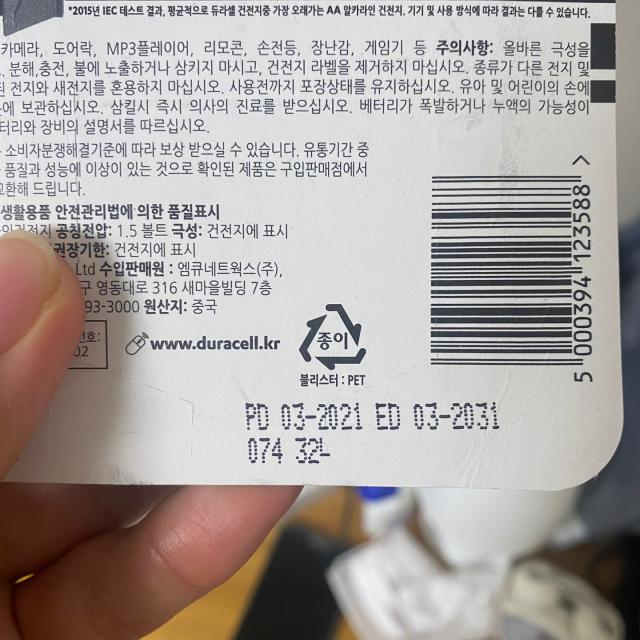Paper: (297, 299, 368, 372)
